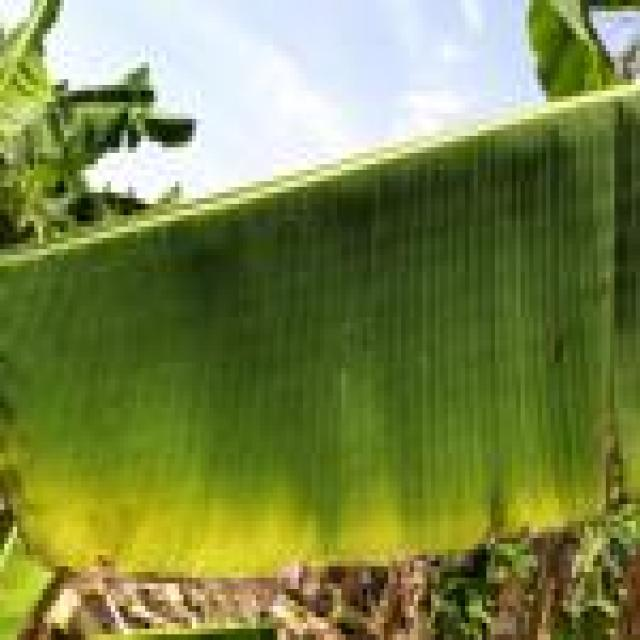Early_rust: (0, 217, 625, 640)
